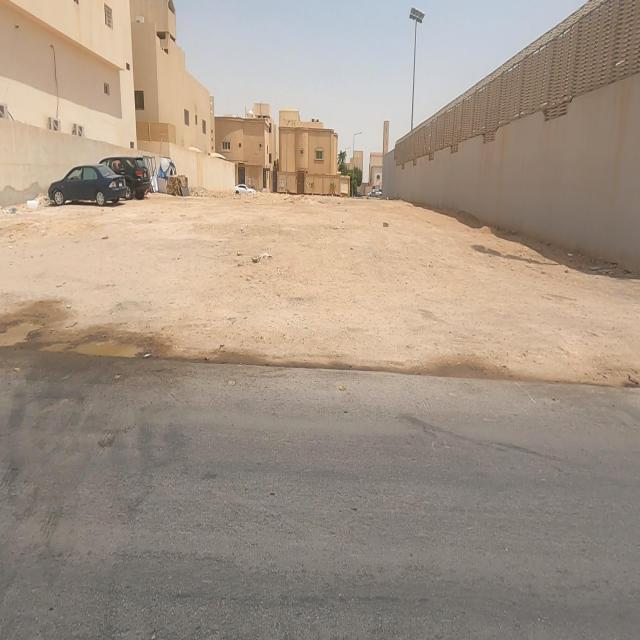debris: (2, 162, 58, 249)
